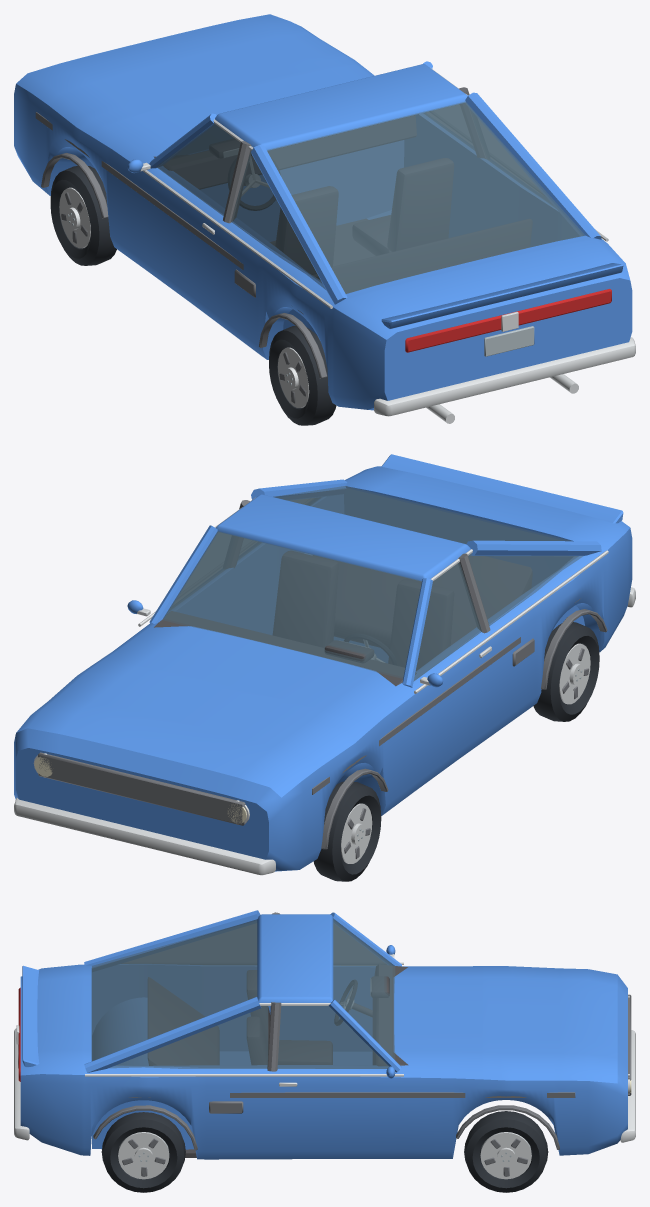
File: Fastback.fbx
The picture shows the model from 3 angles, top to bottom: view 1: azimuth 30°, elevation 25°; view 2: azimuth 150°, elevation 25°; view 3: azimuth 270°, elevation 25°; orthographic projection. The views are drawn at different scales.
Parts seen in each view (by area): view 1: Body__paint, Body__glass, Body__interior, Body__chrome, Body__engine, WheelRL__rubber, WheelFL__rubber, Body__tail, WheelFL__chrome, WheelRL__chrome, Body__metal; view 2: Body__paint, Body__glass, Body__interior, Body__engine, Body__chrome, WheelFL__rubber, WheelRL__rubber, WheelRL__chrome, WheelFL__chrome; view 3: Body__paint, Body__glass, Body__interior, Body__engine, WheelFR__rubber, WheelRR__rubber, Body__chrome, WheelFR__chrome, WheelRR__chrome.
Boxes of the visible parts, x1=… form: Body__paint: x1=14, y1=14, x2=632, y2=410; Body__glass: x1=156, y1=101, x2=585, y2=293; Body__interior: x1=154, y1=115, x2=532, y2=293; Body__chrome: x1=140, y1=68, x2=635, y2=423; Body__engine: x1=35, y1=87, x2=486, y2=378; WheelRL__rubber: x1=269, y1=326, x2=336, y2=425; WheelFL__rubber: x1=50, y1=166, x2=116, y2=265; Body__tail: x1=405, y1=289, x2=611, y2=352; WheelFL__chrome: x1=59, y1=187, x2=90, y2=248; WheelRL__chrome: x1=277, y1=347, x2=309, y2=407; Body__metal: x1=223, y1=148, x2=534, y2=356; Body__paint: x1=14, y1=454, x2=632, y2=871; Body__glass: x1=162, y1=486, x2=583, y2=681; Body__interior: x1=154, y1=551, x2=532, y2=686; Body__engine: x1=38, y1=500, x2=607, y2=849; Body__chrome: x1=14, y1=497, x2=635, y2=875; WheelFL__rubber: x1=313, y1=781, x2=381, y2=881; WheelRL__rubber: x1=533, y1=622, x2=599, y2=721; WheelRL__chrome: x1=559, y1=643, x2=590, y2=704; WheelFL__chrome: x1=341, y1=803, x2=372, y2=863; Body__paint: x1=20, y1=910, x2=627, y2=1159; Body__glass: x1=91, y1=919, x2=395, y2=1068; Body__interior: x1=148, y1=964, x2=408, y2=1157; Body__engine: x1=93, y1=912, x2=631, y2=1150; WheelFR__rubber: x1=464, y1=1111, x2=548, y2=1192; WheelRR__rubber: x1=101, y1=1112, x2=185, y2=1192; Body__chrome: x1=14, y1=954, x2=635, y2=1142; WheelFR__chrome: x1=480, y1=1132, x2=531, y2=1179; WheelRR__chrome: x1=118, y1=1132, x2=169, y2=1179.
Size of the model in its own units: 2.28 by 1.54 by 4.72.
